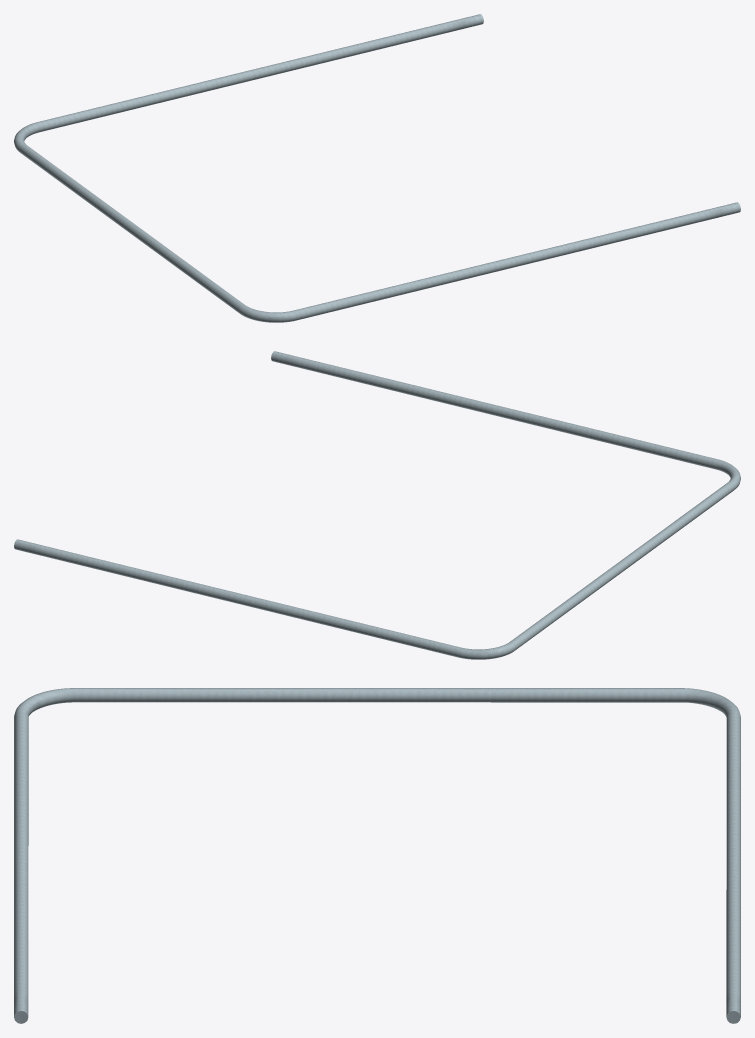
The model's file is 27-rolled-tin-rim-149.2-1.fbx.
3 renders of one model, top to bottom at view 1: azimuth 30°, elevation 25°; view 2: azimuth 150°, elevation 25°; view 3: azimuth 270°, elevation 25°, orthographic. The views are drawn at different scales.
Parts seen in each view (by area): view 1: rolled-tin-rim-149.2-1; view 2: rolled-tin-rim-149.2-1; view 3: rolled-tin-rim-149.2-1.
Boxes of the visible parts, box(x1,y1,x2,y2) form: rolled-tin-rim-149.2-1: box(14, 14, 740, 322); rolled-tin-rim-149.2-1: box(14, 351, 740, 659); rolled-tin-rim-149.2-1: box(14, 688, 740, 1023).
Bounding box in the file's own units: 8530 × 160 × 8059.
1 material, 1 textured.
